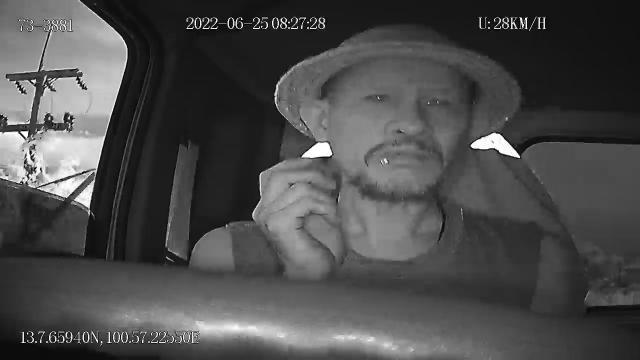SafeDriving: (358, 80, 398, 110), (416, 86, 456, 113)
Smoking: (378, 146, 396, 166)
